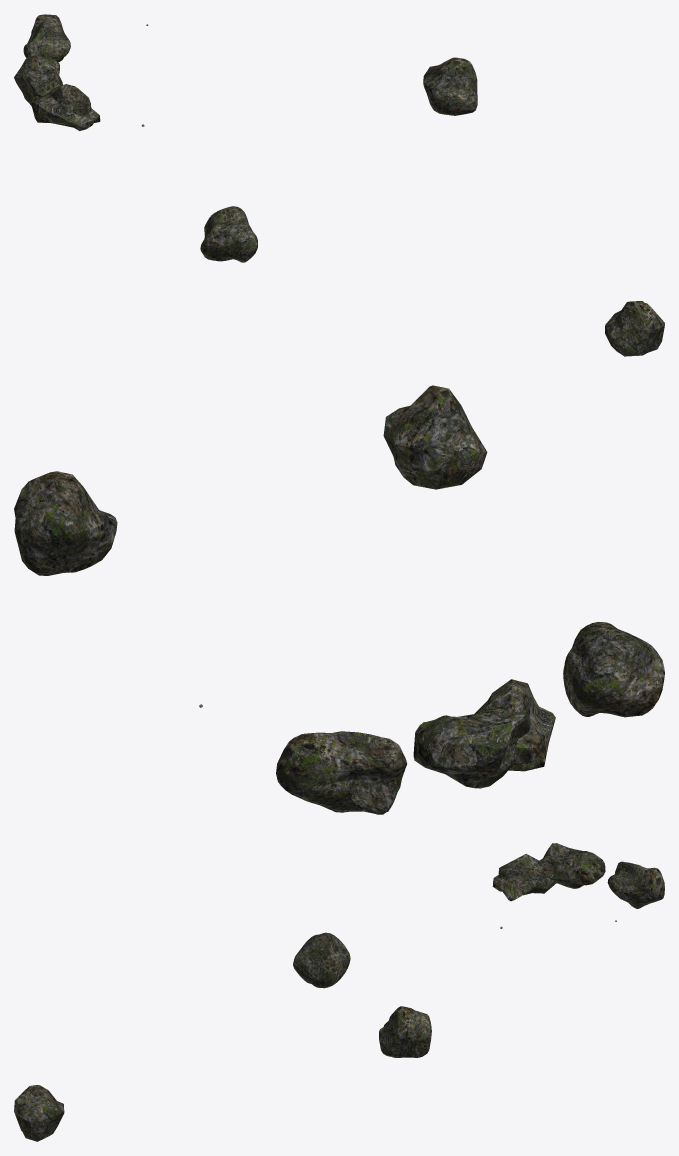
File: _DreadZone_LOD3_mos_rock.glb
The picture shows the model from 3 angles, top to bottom: view 1: azimuth 30°, elevation 25°; view 2: azimuth 150°, elevation 25°; view 3: azimuth 270°, elevation 25°; orthographic projection. The views are drawn at different scales.
Visible parts, largest first — view 1: mossrock128, mossrock8, mossrock384, rock8, rock128, rock384; view 2: rock384, mossrock128, mossrock384, mossrock8, rock128, rock8; view 3: mossrock384, mossrock128, rock128, mossrock8, rock384, rock8.
Part boxes in pixels (left/top/right/bottom): mossrock128: left=423, top=57, right=477, bottom=115; mossrock8: left=605, top=301, right=664, bottom=356; mossrock384: left=200, top=206, right=257, bottom=262; rock8: left=31, top=84, right=100, bottom=130; rock128: left=14, top=55, right=62, bottom=106; rock384: left=23, top=14, right=70, bottom=62; rock384: left=276, top=731, right=407, bottom=814; mossrock128: left=14, top=471, right=117, bottom=575; mossrock384: left=563, top=622, right=664, bottom=717; mossrock8: left=383, top=385, right=487, bottom=489; rock128: left=413, top=708, right=530, bottom=788; rock8: left=474, top=679, right=555, bottom=771; mossrock384: left=293, top=932, right=350, bottom=988; mossrock128: left=379, top=1006, right=431, bottom=1057; rock128: left=539, top=843, right=605, bottom=888; mossrock8: left=14, top=1085, right=64, bottom=1141; rock384: left=607, top=861, right=664, bottom=908; rock8: left=492, top=853, right=556, bottom=901.
Size of what is drawn, in the model's own units: 142 by 58.51 by 233.
Materials: 4 (4 with a texture image).
